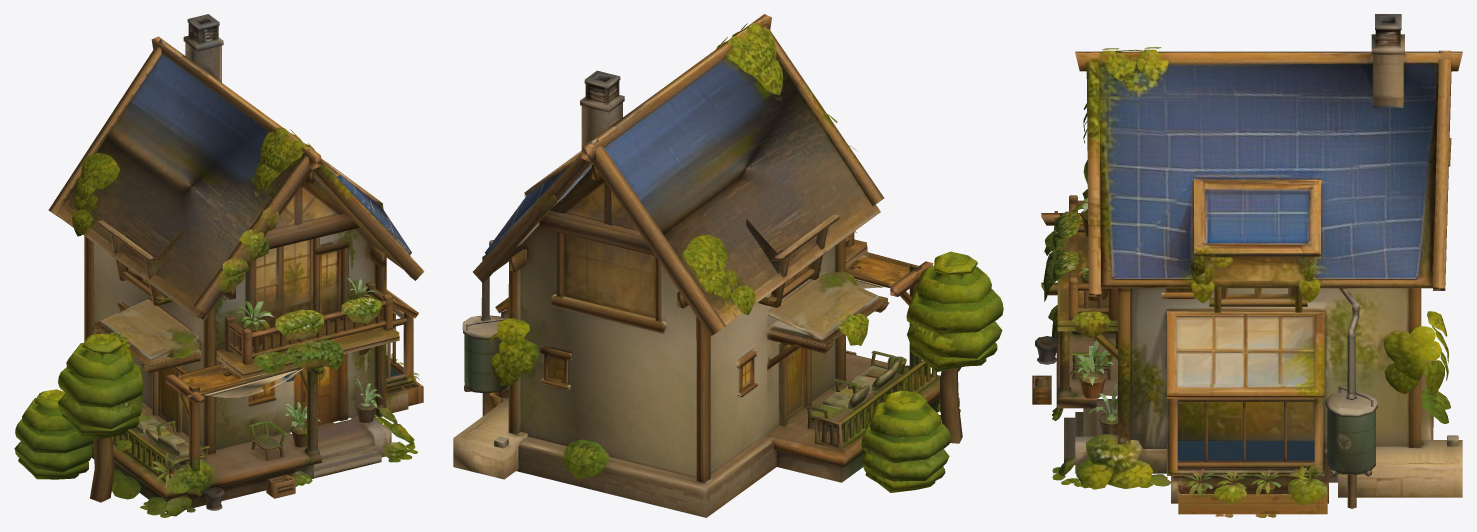
The model's file is solarpunkHouse.glb.
The picture shows the model from 3 angles, left to right: view 1: azimuth 30°, elevation 25°; view 2: azimuth 150°, elevation 25°; view 3: azimuth 270°, elevation 25°; orthographic projection. The views are drawn at different scales.
Visible parts, largest first — view 1: tripo_41d064eb_2792_462a_aa57_88d2ace26ed5; view 2: tripo_41d064eb_2792_462a_aa57_88d2ace26ed5; view 3: tripo_41d064eb_2792_462a_aa57_88d2ace26ed5.
Boxes of the visible parts, x1=… form: tripo_41d064eb_2792_462a_aa57_88d2ace26ed5: x1=14, y1=14, x2=424, y2=517; tripo_41d064eb_2792_462a_aa57_88d2ace26ed5: x1=453, y1=14, x2=1003, y2=517; tripo_41d064eb_2792_462a_aa57_88d2ace26ed5: x1=1032, y1=14, x2=1462, y2=517.
Size of the model in its own units: 0.9995 by 0.8882 by 0.8149.
Materials: 1 (1 with a texture image).
